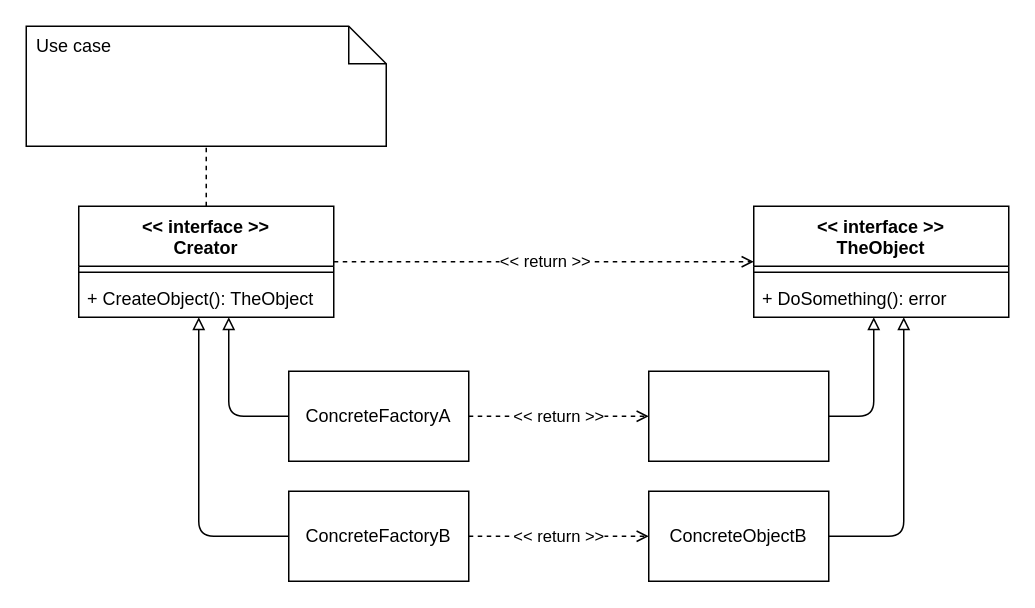
This 1035x608 diagram has some shape labels left out. The box of each missing label's shape, as (x1, y1, x2, y2) in pixels:
ConcreteObjectA: (647, 370, 829, 461)
var factory Creator var obj TheObject = factory.CreateObject() obj.DoSomething(): (25, 25, 386, 146)
